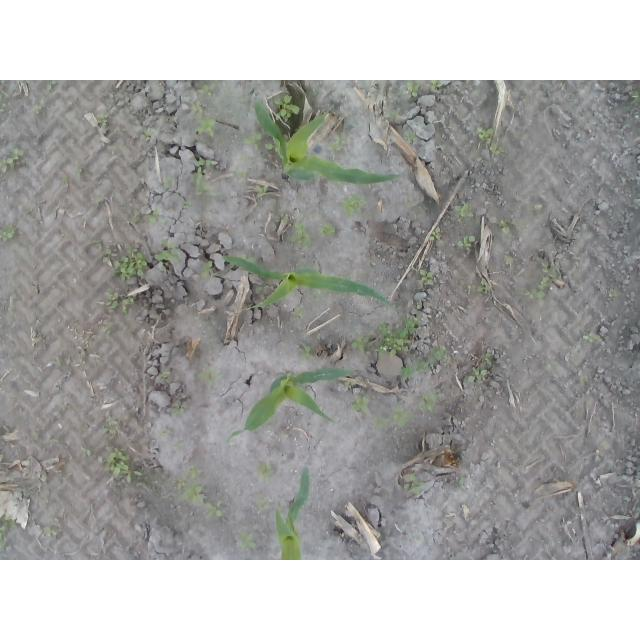Maize: (254, 101, 401, 184), (225, 366, 353, 447), (223, 255, 393, 310), (277, 466, 312, 560)
Weeds: (95, 239, 150, 282), (375, 316, 419, 360), (191, 81, 218, 146), (191, 158, 226, 201), (474, 127, 515, 162), (524, 262, 560, 300), (105, 448, 143, 483), (401, 350, 448, 378), (174, 464, 206, 505), (105, 288, 140, 320), (239, 127, 280, 154), (466, 353, 493, 386), (271, 93, 299, 123), (156, 239, 184, 266), (339, 192, 368, 218), (389, 402, 415, 430), (0, 144, 24, 174), (129, 208, 168, 225), (289, 222, 313, 249), (415, 391, 441, 413), (0, 519, 16, 553), (453, 202, 475, 226), (199, 367, 226, 386), (456, 234, 481, 251), (204, 500, 225, 519), (352, 335, 373, 354), (400, 474, 422, 492), (239, 530, 258, 550), (351, 394, 369, 414), (326, 135, 347, 152), (255, 495, 273, 514), (199, 260, 215, 280), (527, 202, 546, 218), (372, 414, 391, 430), (104, 416, 121, 433), (0, 223, 16, 241), (255, 462, 273, 478), (43, 527, 59, 545), (319, 222, 336, 238), (407, 80, 422, 97), (175, 403, 192, 417), (419, 270, 433, 286), (255, 282, 273, 294), (95, 113, 109, 128), (99, 321, 113, 336), (311, 287, 322, 306), (73, 167, 91, 178), (583, 333, 601, 344), (403, 130, 417, 144), (31, 335, 50, 345), (498, 219, 511, 233), (163, 176, 178, 188), (478, 278, 489, 294), (32, 431, 41, 450), (63, 175, 72, 194), (142, 127, 154, 141), (295, 305, 306, 320), (79, 448, 97, 457), (512, 131, 528, 141), (384, 109, 400, 119), (31, 102, 43, 114), (0, 95, 8, 113), (48, 80, 65, 88), (16, 490, 33, 498), (52, 357, 64, 368), (504, 254, 515, 266), (258, 151, 270, 162), (406, 198, 418, 209), (631, 89, 640, 103), (305, 346, 314, 360), (159, 371, 171, 381), (429, 231, 441, 241), (238, 169, 250, 179), (256, 186, 269, 195), (183, 199, 193, 209), (431, 80, 441, 90), (160, 430, 171, 439), (95, 195, 105, 204), (609, 290, 620, 298), (280, 214, 288, 224), (458, 475, 466, 482), (344, 380, 353, 384)
